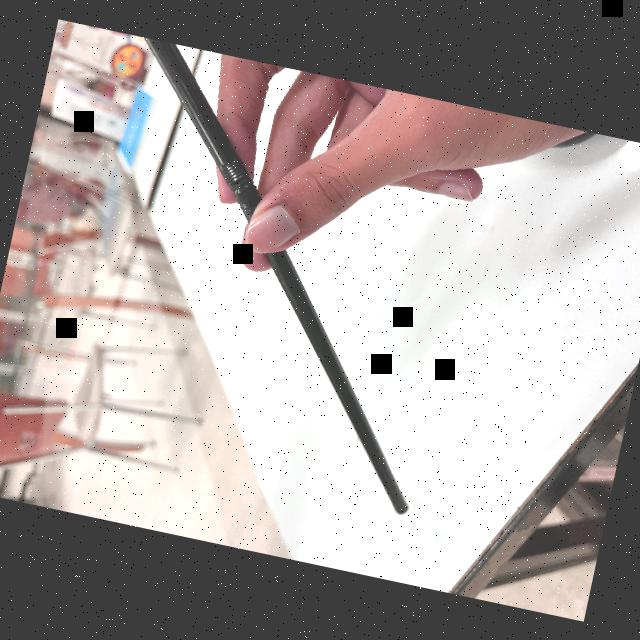straw: (59, 38, 498, 523)
